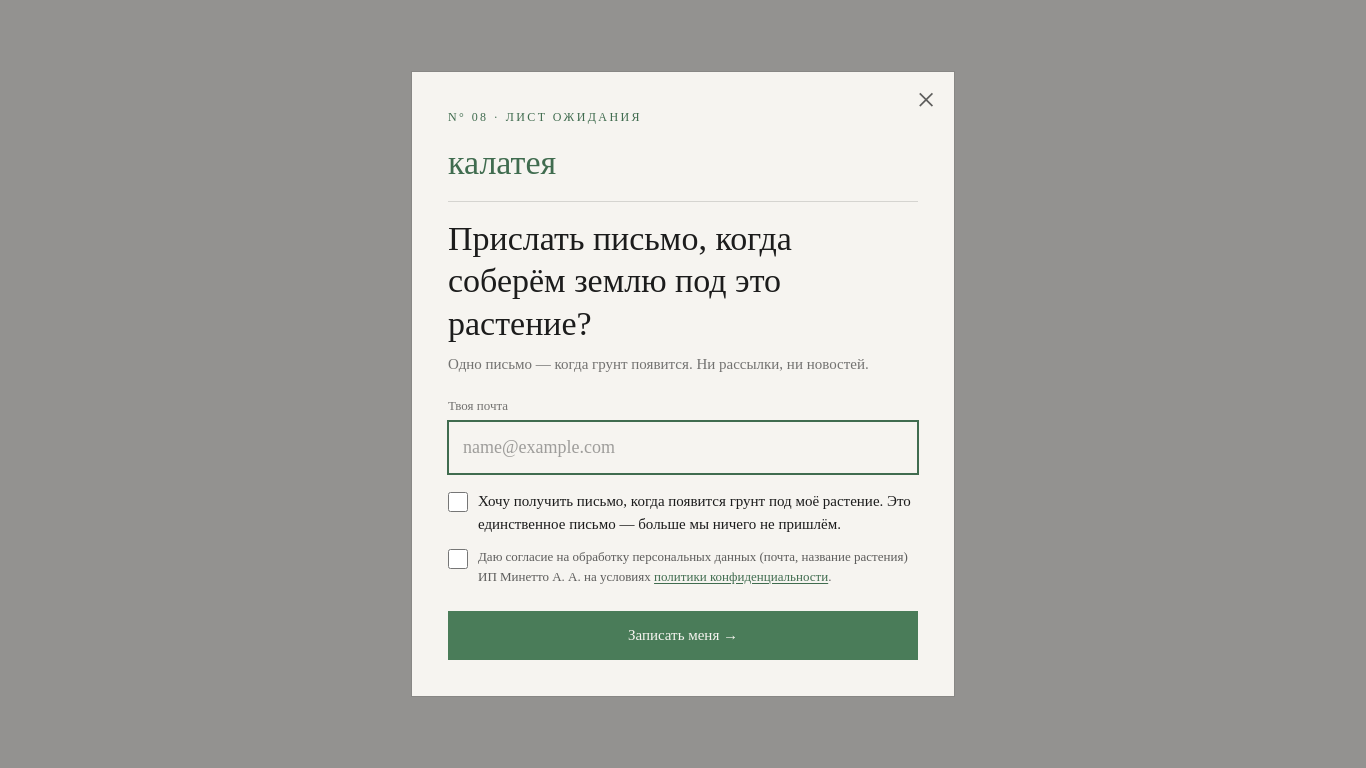
Test: WaitlistModal — пять состояний (task 3.3) › почта + одно согласие: отправки нет, фокус на неотмеченном
Step 1. Type "me@example.com" into the field labelled "Твоя почта" → (683,448), box [448,421,918,474]
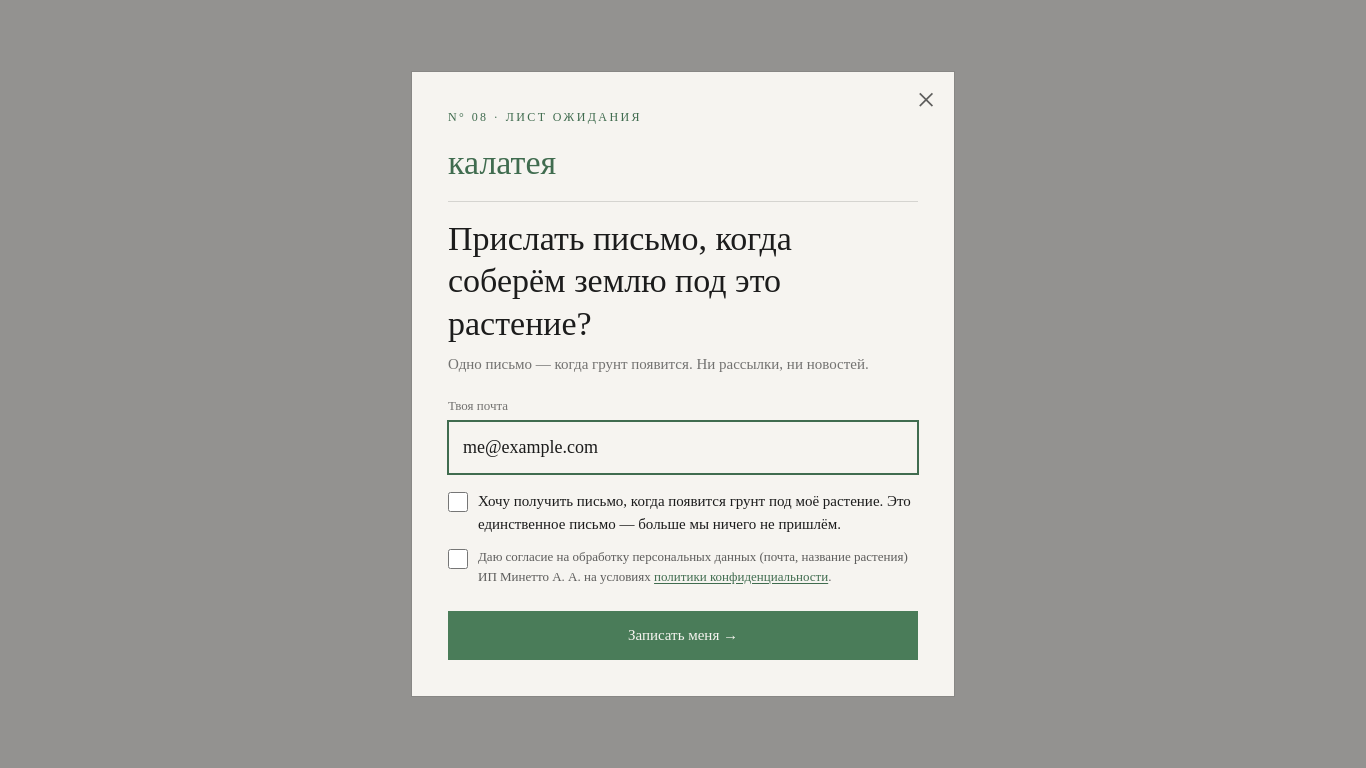
Step 2. Click the 1st checkbox → (458,502), box [448,492,468,512]
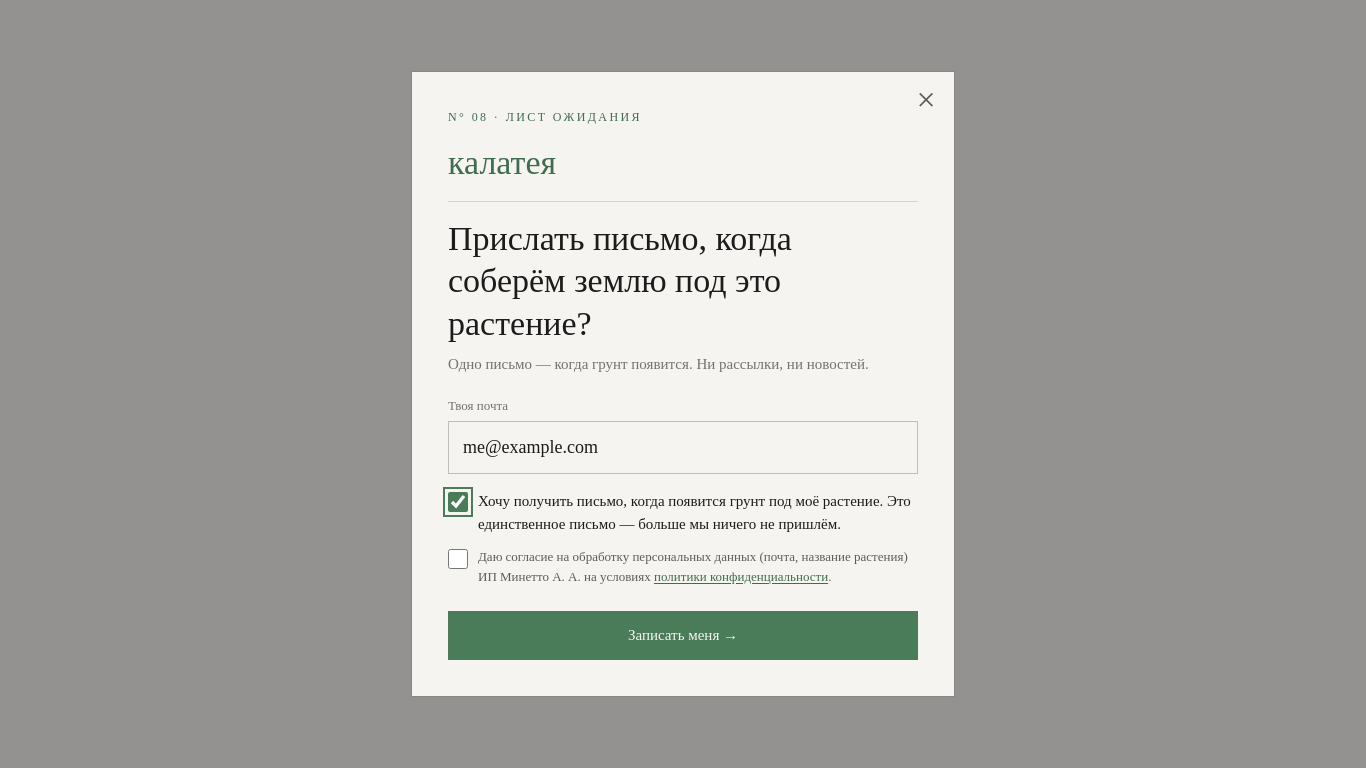
Step 3. Click the button "Записать меня →" → (683,636), box [448,611,918,660]
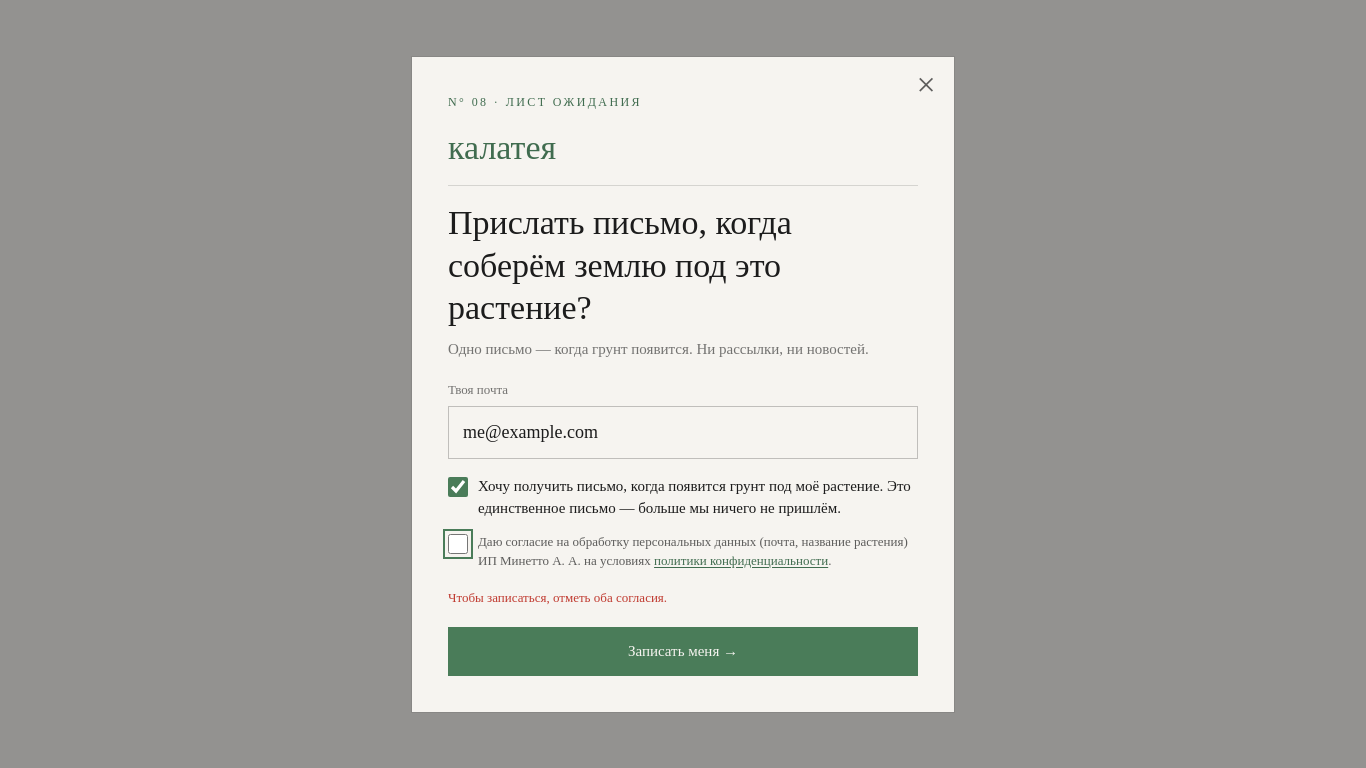
Expected: the text "Чтобы записаться, отметь оба согласия." is shown, [448,590,667,604]
